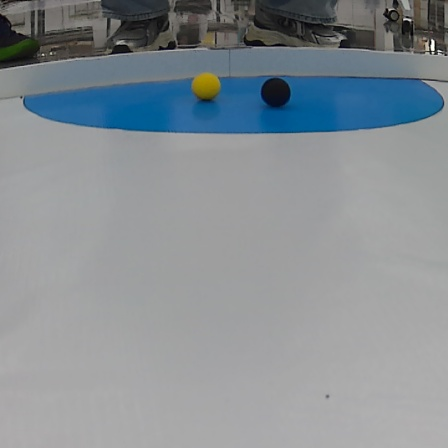black: (260, 79, 291, 108)
blue_base: (22, 77, 441, 139)
yellow: (188, 71, 226, 100)
